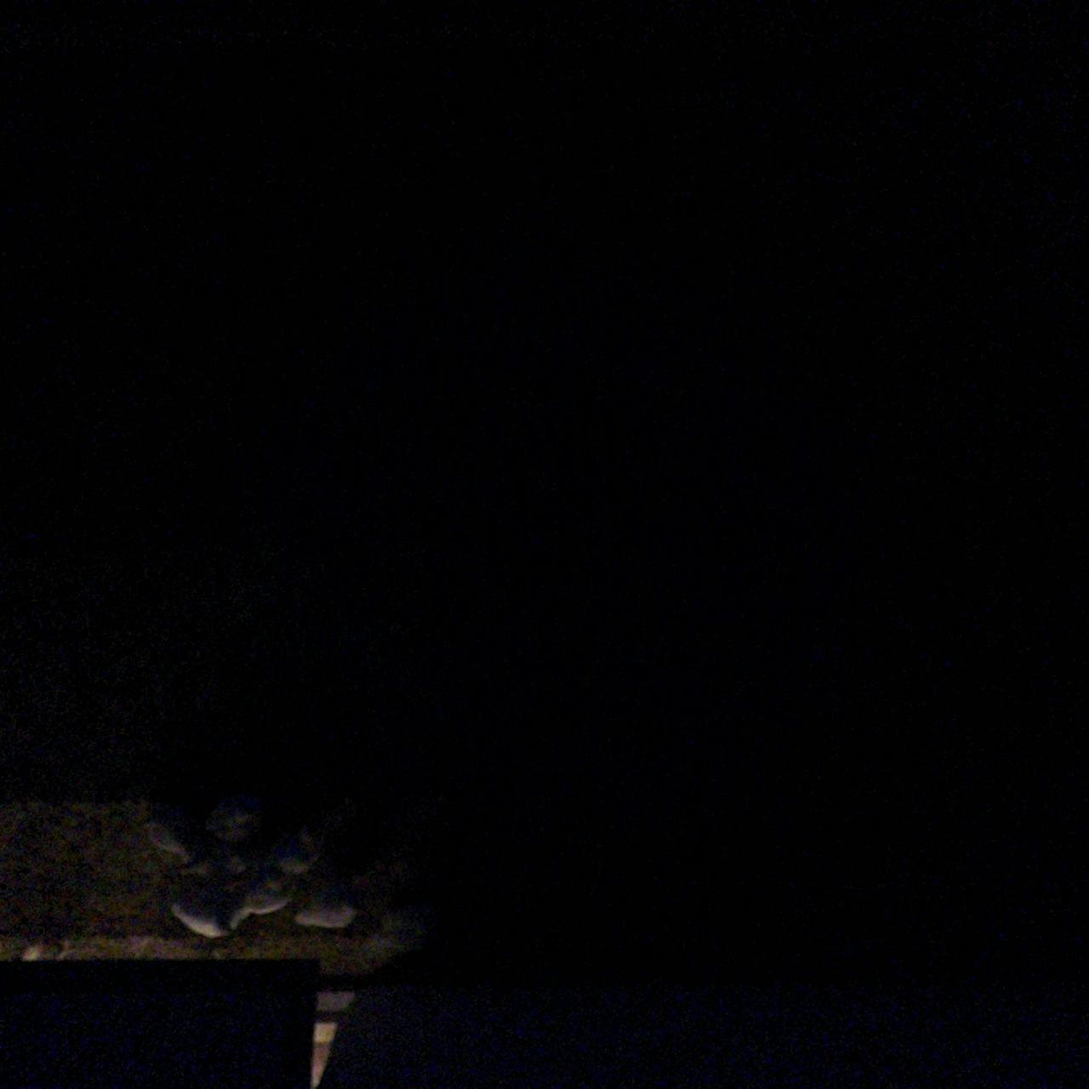chicken: (167, 878, 248, 949), (288, 868, 366, 935), (138, 800, 200, 871), (204, 784, 272, 846), (271, 800, 340, 860), (233, 859, 296, 919)
